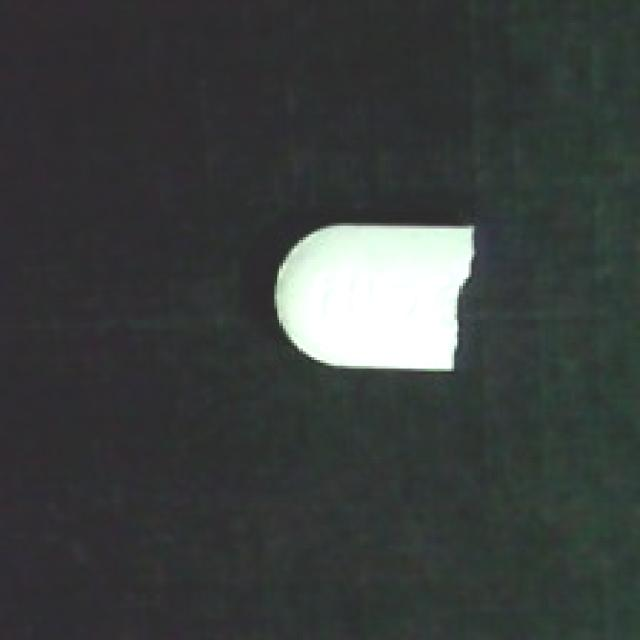defected: (271, 217, 486, 380)
